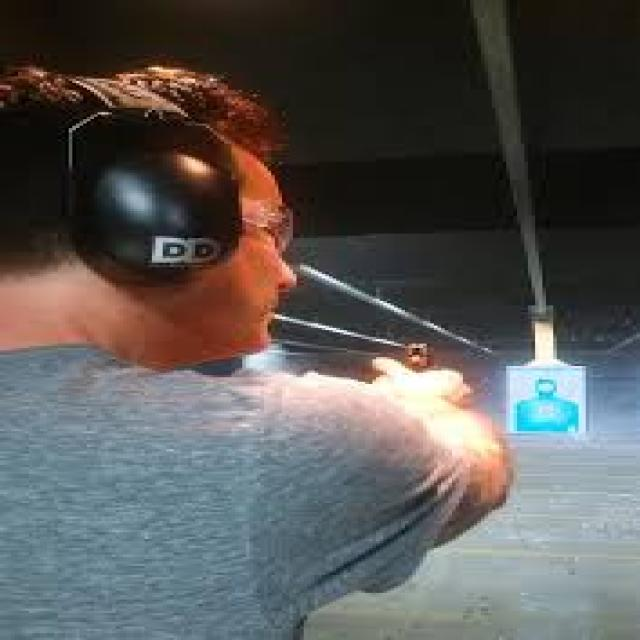Ear-protection: (54, 110, 242, 287)
person: (0, 63, 456, 640)
